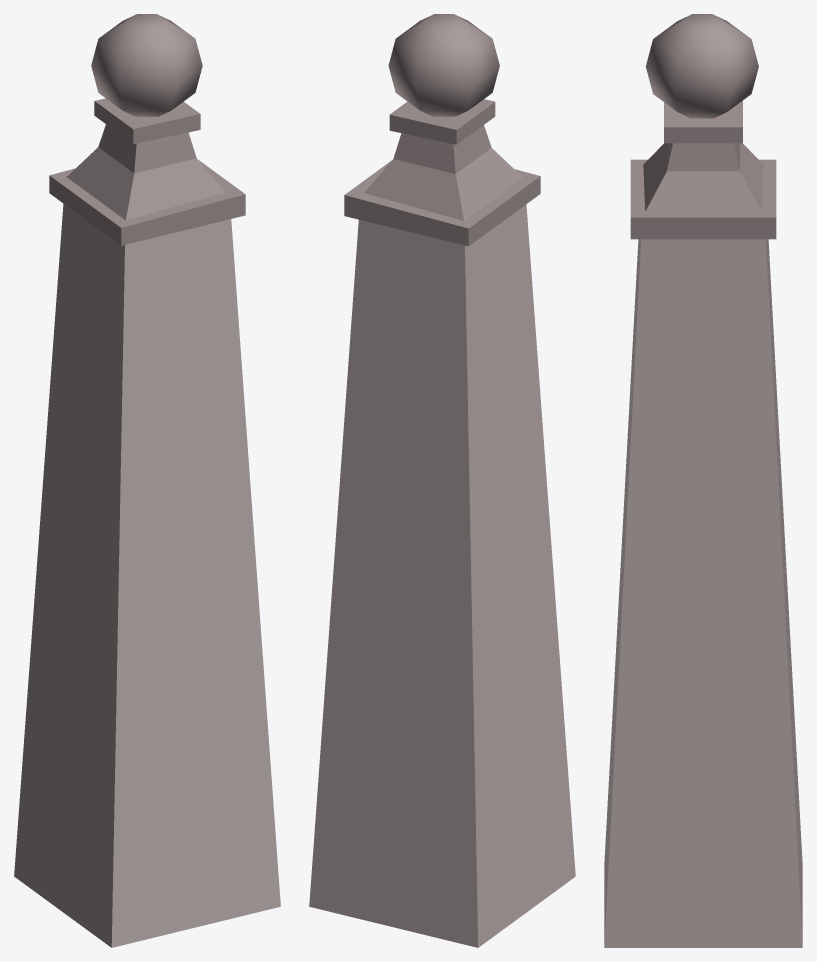
Rendered from HWN20_Column_02.glb.
3 views of the same model, side by side, from view 1: azimuth 30°, elevation 25°; view 2: azimuth 150°, elevation 25°; view 3: azimuth 270°, elevation 25° (orthographic).
Visible parts, largest first — view 1: HWN20_Column_02; view 2: HWN20_Column_02; view 3: HWN20_Column_02.
Boxes of the visible parts, bbox=[...] form: HWN20_Column_02: bbox=[14, 14, 280, 947]; HWN20_Column_02: bbox=[309, 14, 575, 947]; HWN20_Column_02: bbox=[604, 14, 802, 947].
Size of what is drawn, in the model's own units: 1.23 by 6.03 by 1.23.
Materials: 1 (1 with a texture image).
